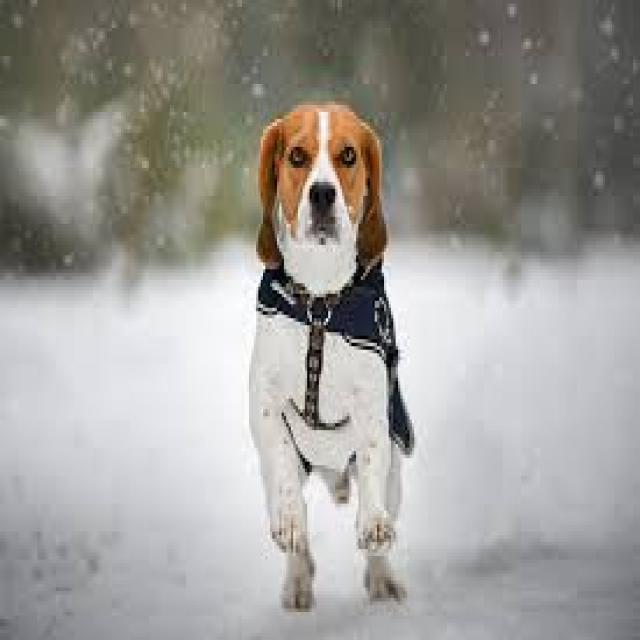Dog: (245, 89, 416, 610)
